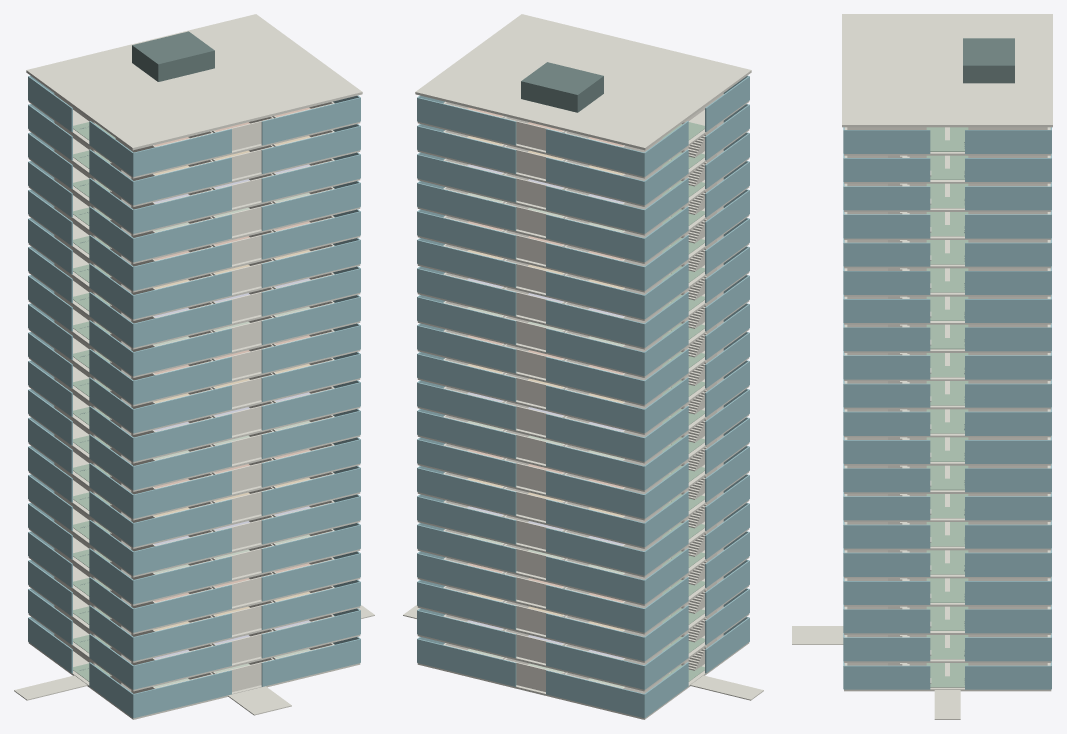
The model's file is building.glb.
3 renders of one model, left to right at view 1: azimuth 30°, elevation 25°; view 2: azimuth 150°, elevation 25°; view 3: azimuth 270°, elevation 25°, orthographic.
Parts seen in each view (by area): view 1: Roof slab, Roof plant, Glazed facade.003, Glazed facade.007, Glazed facade.071, Glazed facade.015, Glazed facade.023, Glazed facade.047, Glazed facade.063, Glazed facade.067, Glazed facade.075, Glazed facade.079 (+112 smaller); view 2: Roof slab, Roof plant, Glazed facade.001, Glazed facade.005, Glazed facade.069, Glazed facade.013, Glazed facade.021, Glazed facade.045, Glazed facade.061, Glazed facade.065, Glazed facade.073, Glazed facade.077 (+111 smaller); view 3: Roof slab, Roof plant, Side facade.046, Side facade.047, Side facade.066, Side facade.067, Side facade.002, Side facade.003, Side facade.006, Side facade.007, Side facade.042, Side facade.043 (+52 smaller).
Part boxes in pixels (x1,y1,x2,y2): Roof slab: (26, 14, 362, 150); Roof plant: (132, 31, 214, 81); Glazed facade.003: (261, 639, 360, 686); Glazed facade.007: (261, 610, 360, 658); Glazed facade.071: (261, 154, 360, 202); Glazed facade.015: (261, 553, 360, 601); Glazed facade.023: (261, 496, 360, 544); Glazed facade.047: (261, 325, 360, 373); Glazed facade.063: (261, 211, 360, 259); Glazed facade.067: (261, 183, 360, 230); Glazed facade.075: (261, 126, 360, 173); Glazed facade.079: (261, 97, 360, 145); Roof slab: (415, 14, 751, 150); Roof plant: (521, 62, 603, 112); Glazed facade.001: (417, 639, 516, 686); Glazed facade.005: (417, 610, 516, 658); Glazed facade.069: (417, 154, 516, 202); Glazed facade.013: (417, 553, 516, 601); Glazed facade.021: (417, 496, 516, 544); Glazed facade.045: (417, 325, 516, 373); Glazed facade.061: (417, 211, 516, 259); Glazed facade.065: (417, 183, 516, 230); Glazed facade.073: (417, 126, 516, 173); Glazed facade.077: (417, 97, 516, 145); Roof slab: (842, 14, 1052, 127); Roof plant: (963, 38, 1014, 83); Side facade.046: (965, 355, 1051, 379); Side facade.047: (844, 355, 930, 379); Side facade.066: (965, 214, 1051, 238); Side facade.067: (844, 214, 930, 238); Side facade.002: (965, 665, 1051, 689); Side facade.003: (844, 665, 930, 689); Side facade.006: (965, 637, 1051, 661); Side facade.007: (844, 637, 930, 661); Side facade.042: (965, 383, 1051, 407); Side facade.043: (844, 383, 930, 407).
Bounding box in the file's own units: 46 × 74.64 × 30.2.
